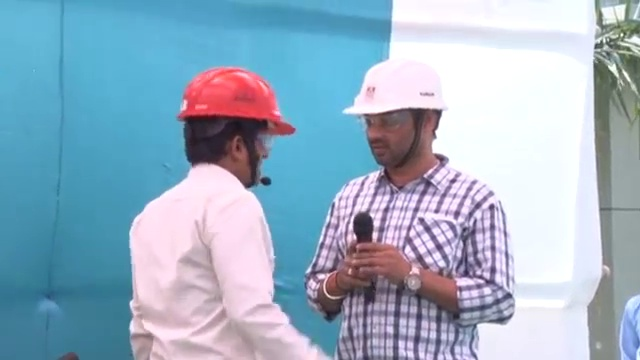helmet: (176, 63, 296, 137), (343, 57, 448, 117)
helmet_on: (176, 64, 300, 187), (340, 57, 451, 179)
person: (307, 58, 517, 360), (124, 63, 332, 360)
